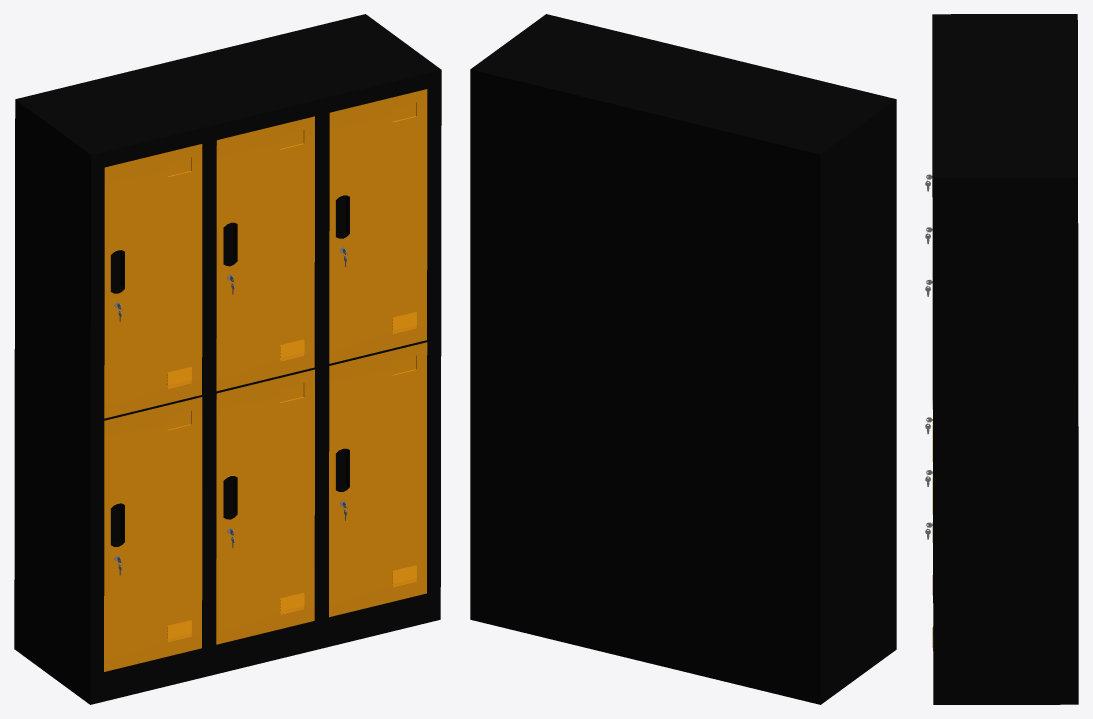
Rendered from Prop_MultiLocker_Orange.FBX.
3 renders of one model, left to right at view 1: azimuth 30°, elevation 25°; view 2: azimuth 150°, elevation 25°; view 3: azimuth 270°, elevation 25°, orthographic. The views are drawn at different scales.
Visible parts, largest first — view 1: Locker; view 2: Locker; view 3: Locker.
Boxes of the visible parts, <box> form: Locker: <box>14,14,441,704</box>; Locker: <box>470,14,896,704</box>; Locker: <box>925,14,1078,704</box>.
Size of the model in its own units: 200 by 300 by 79.12.
